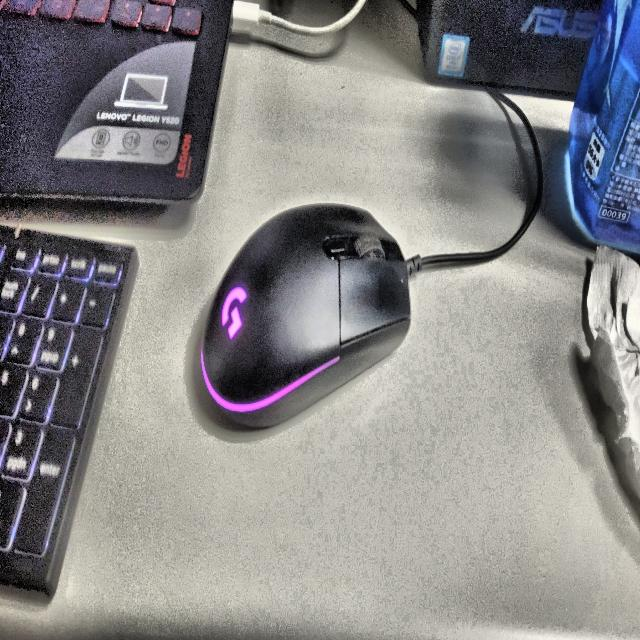Keyboard: (0, 225, 138, 595)
Laptop: (0, 0, 233, 201)
MOUSE: (200, 205, 411, 428)
